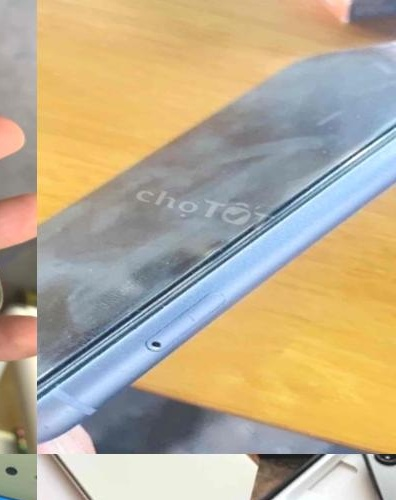scratch: (43, 319, 157, 454)
